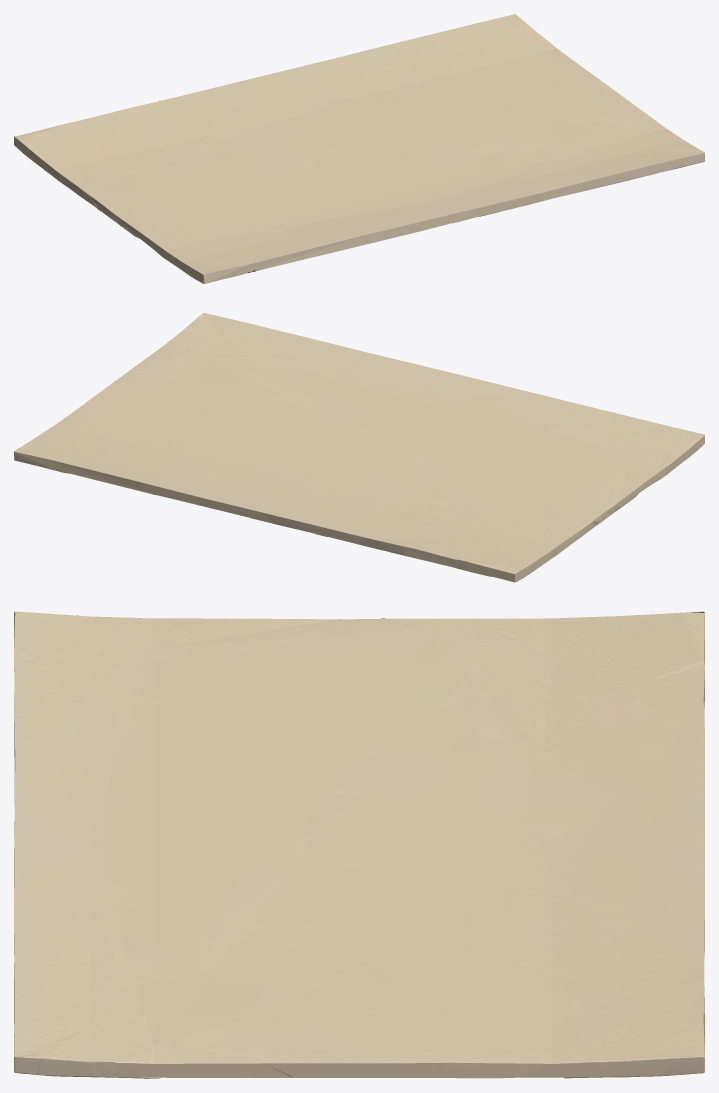
File: ebru-kagidi.glb
3 renders of one model, top to bottom at view 1: azimuth 30°, elevation 25°; view 2: azimuth 150°, elevation 25°; view 3: azimuth 270°, elevation 25°, orthographic. The views are drawn at different scales.
Parts seen in each view (by area): view 1: output_unwrapped; view 2: output_unwrapped; view 3: output_unwrapped.
Part boxes in pixels (bbox=[...]): output_unwrapped: bbox=[14, 14, 704, 283]; output_unwrapped: bbox=[14, 312, 704, 582]; output_unwrapped: bbox=[14, 611, 704, 1078].
Size of the model in its own units: 1.9 by 0.0489 by 1.25.
1 material, 1 textured.
